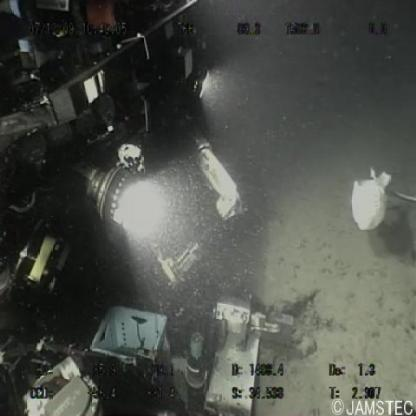Rov: (1, 1, 328, 414)
Rác: (347, 161, 391, 237)
